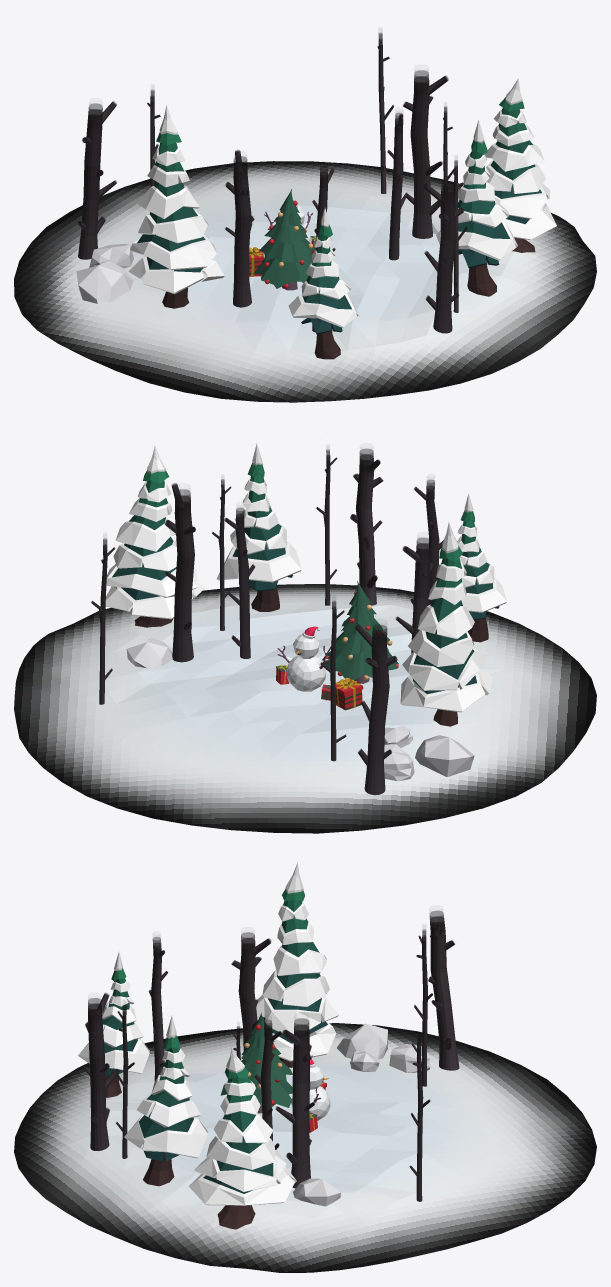
Rendered from SnowScene.glb.
3 renders of one model, top to bottom at view 1: azimuth 30°, elevation 25°; view 2: azimuth 150°, elevation 25°; view 3: azimuth 270°, elevation 25°, orthographic. The views are drawn at different scales.
Visible parts, largest first — view 1: Plateau, Pine3 Snow.002, Pine3 Snow.001, Pine2_Snow.001, Pine2_Snow.002, Christmast_tree, Cylinder.096, Cylinder.063, Cylinder.054, Cylinder.119, Bush_winter_010.001, Cylinder.042 (+4 smaller); view 2: Plateau, Pine3 Snow.002, Pine3 Snow.001, Pine2_Snow.001, Pine2_Snow.002, Cylinder.096, Cylinder.063, Christmast_tree, Cylinder.119, Bush_winter_010.001, Snowman.001, Cylinder.042 (+9 smaller); view 3: Plateau, Pine3 Snow.001, Pine3 Snow.002, Pine2_Snow.001, Pine2_Snow.002, Cylinder.096, Cylinder.063, Cylinder.119, Christmast_tree, Cylinder.054, Cylinder.125, Bush_winter_010.001 (+7 smaller).
Part boxes in pixels (x1,y1,x2,y2): Plateau: (14,161,596,402); Pine3 Snow.002: (128,105,224,308); Pine3 Snow.001: (485,78,556,252); Pine2_Snow.001: (436,120,517,296); Pine2_Snow.002: (288,207,358,359); Christmast_tree: (253,189,315,290); Cylinder.096: (410,70,432,238); Cylinder.063: (78,103,102,259); Cylinder.054: (233,156,251,307); Cylinder.119: (433,181,456,333); Bush_winter_010.001: (76,261,133,303); Cylinder.042: (389,112,403,260); Plateau: (14,584,596,833); Pine3 Snow.002: (400,522,492,726); Pine3 Snow.001: (105,445,205,627); Pine2_Snow.001: (216,443,301,611); Pine2_Snow.002: (457,493,506,642); Cylinder.096: (172,489,194,662); Cylinder.063: (364,624,389,795); Christmast_tree: (322,581,398,683); Cylinder.119: (356,448,376,605); Bush_winter_010.001: (415,735,474,776); Snowman.001: (286,634,326,691); Cylinder.042: (236,507,250,658); Plateau: (14,1023,596,1272); Pine3 Snow.001: (188,1047,296,1229); Pine3 Snow.002: (256,862,338,1067); Pine2_Snow.001: (124,1015,208,1186); Pine2_Snow.002: (78,952,149,1097); Cylinder.096: (291,1018,310,1188); Cylinder.063: (429,910,459,1070); Cylinder.119: (88,998,109,1150); Christmast_tree: (220,1012,292,1113); Cylinder.054: (238,932,257,1051); Cylinder.125: (151,936,164,1081); Bush_winter_010.001: (337,1023,387,1059).
Bounding box in the file's own units: 11.36 × 4.67 × 11.19.
21 materials, 4 textured.
